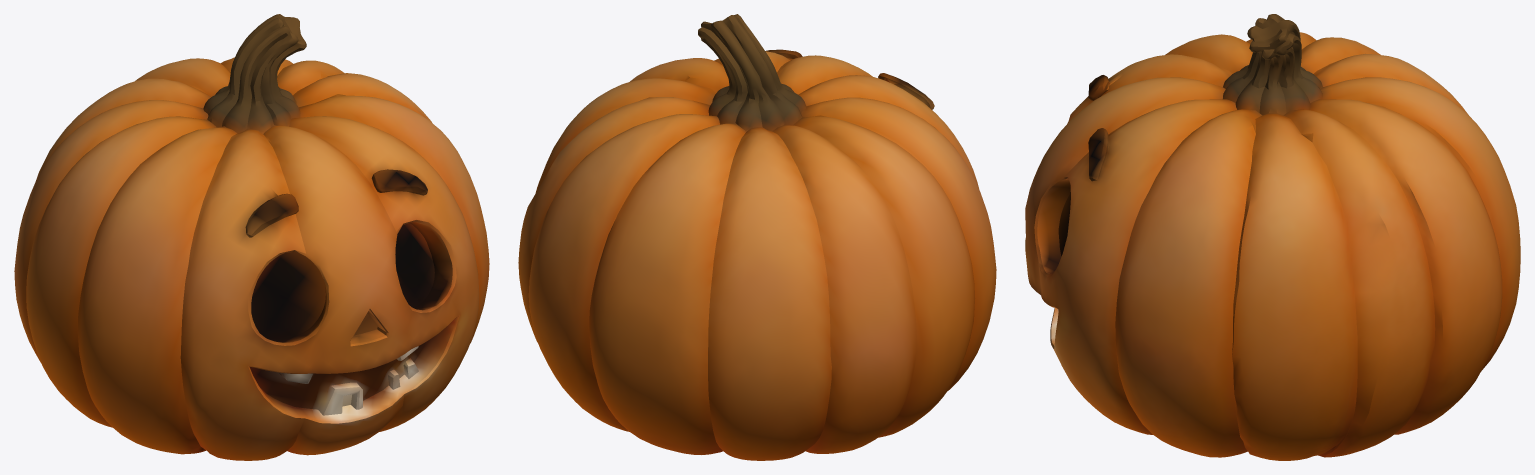
The picture shows the model from 3 angles, left to right: view 1: azimuth 30°, elevation 25°; view 2: azimuth 150°, elevation 25°; view 3: azimuth 270°, elevation 25°; orthographic projection. The views are drawn at different scales.
Parts seen in each view (by area): view 1: texture_pbr_v128; view 2: texture_pbr_v128; view 3: texture_pbr_v128.
Part boxes in pixels (x1,y1,x2,y2): texture_pbr_v128: [14, 14, 489, 460]; texture_pbr_v128: [518, 14, 996, 460]; texture_pbr_v128: [1025, 14, 1520, 460].
Bounding box in the file's own units: 1.9 × 1.71 × 1.9.
Materials: 1 (1 with a texture image).
